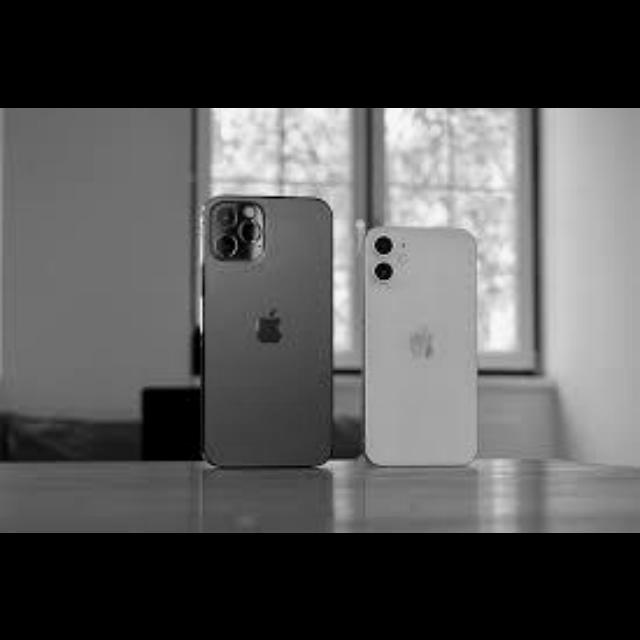fake: (196, 183, 342, 477), (348, 219, 491, 479)
